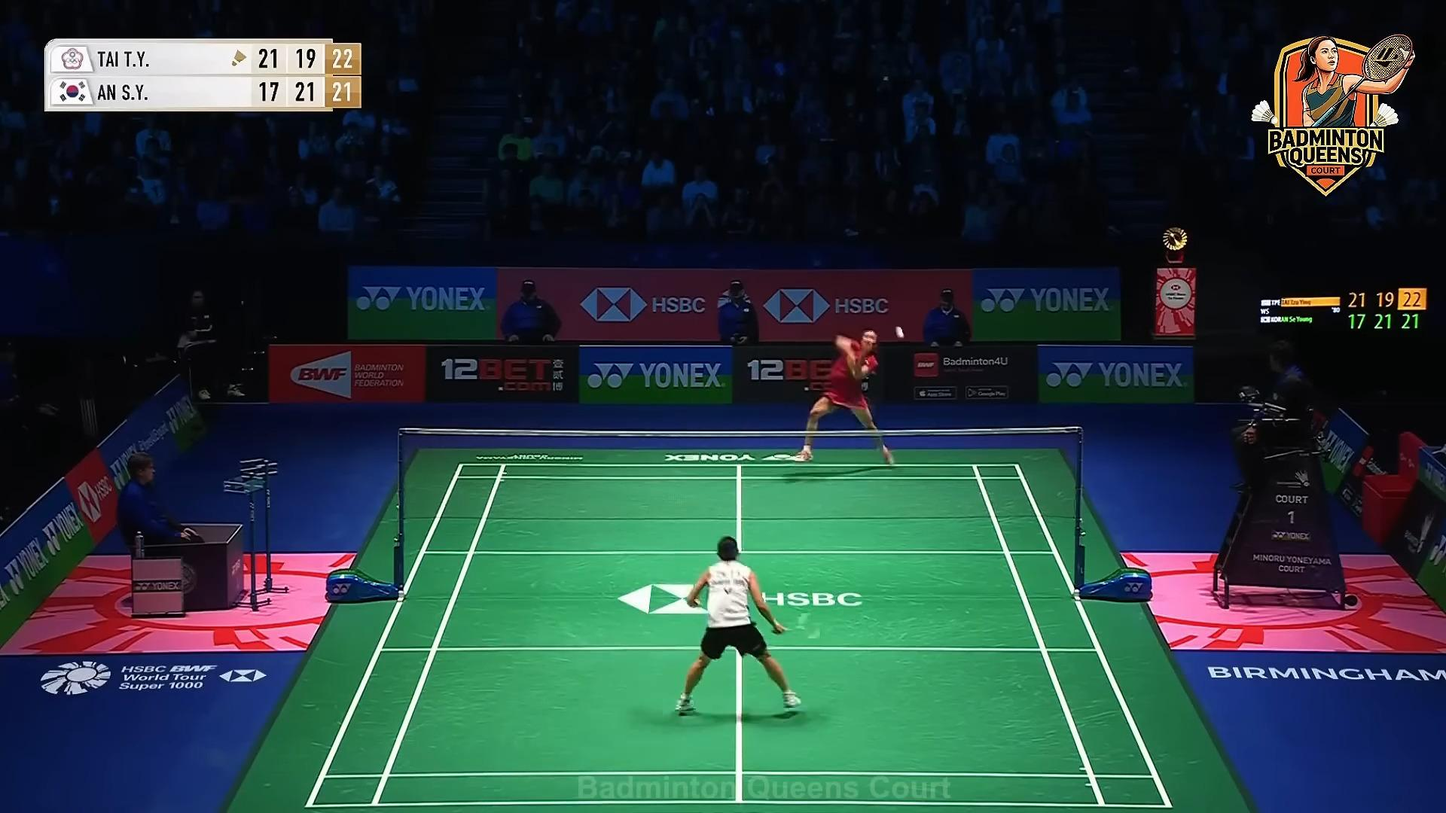shuttlecock: (895, 326, 905, 340)
